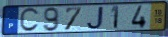1: (110, 4, 120, 30)
4: (130, 5, 148, 30)
7: (65, 6, 84, 32)
9: (43, 6, 60, 32)
C: (19, 7, 41, 33)
J: (86, 6, 106, 31)
